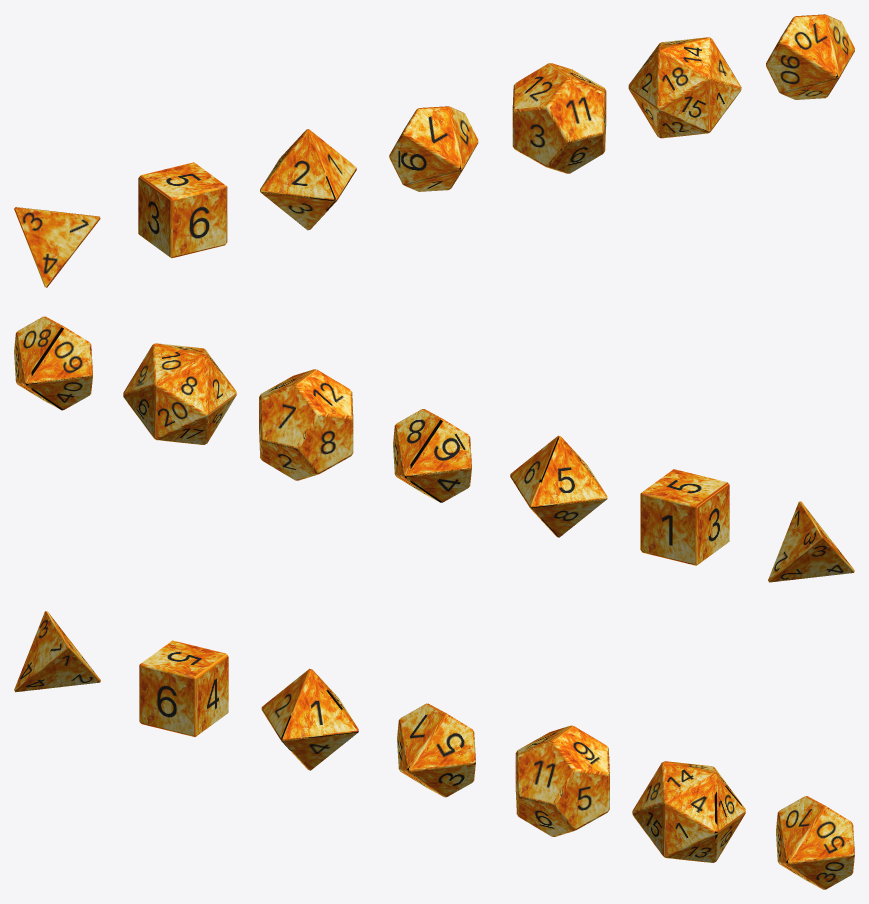
Rendered from fiery_diceset.glb.
3 renders of one model, top to bottom at view 1: azimuth 30°, elevation 25°; view 2: azimuth 150°, elevation 25°; view 3: azimuth 330°, elevation 25°, orthographic.
Visible parts, largest first — view 1: d12, d20, d6, d10, d100, d8, d4; view 2: d12, d20, d6, d100, d10, d8, d4; view 3: d12, d20, d6, d10, d100, d8, d4.
Boxes of the visible parts, x1,y1,x2,y2 form: d12: (512,63,606,173); d20: (628,37,741,138); d6: (138,162,227,258); d10: (389,106,478,191); d100: (766,14,854,99); d8: (260,129,356,230); d4: (14,207,100,287); d12: (259,369,353,480); d20: (123,343,236,444); d6: (640,469,729,565); d100: (14,316,92,410); d10: (393,409,471,502); d8: (510,435,607,537); d4: (768,501,854,582); d12: (515,725,609,836); d20: (632,761,745,862); d6: (139,640,228,736); d10: (397,703,475,797); d100: (776,796,854,889); d8: (261,668,358,770); d4: (14,611,100,692).
Bounding box in the file's own units: 16.37 × 1.89 × 1.89.
7 materials, 7 textured.
